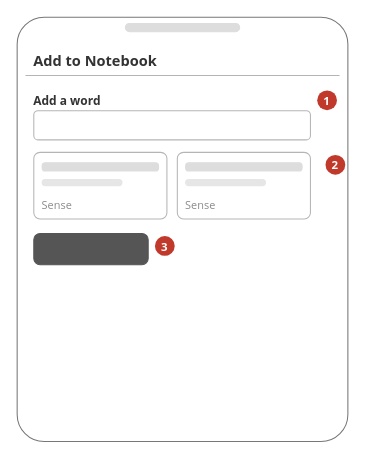
Image size: 365x459. Some labels were removed from this diagram. The shapes that lost their labels are listed below. From the top down, each one's centre as x and y in pixels, then its label:
the point at 171,125: Type an English word…
the point at 90,248: Add
